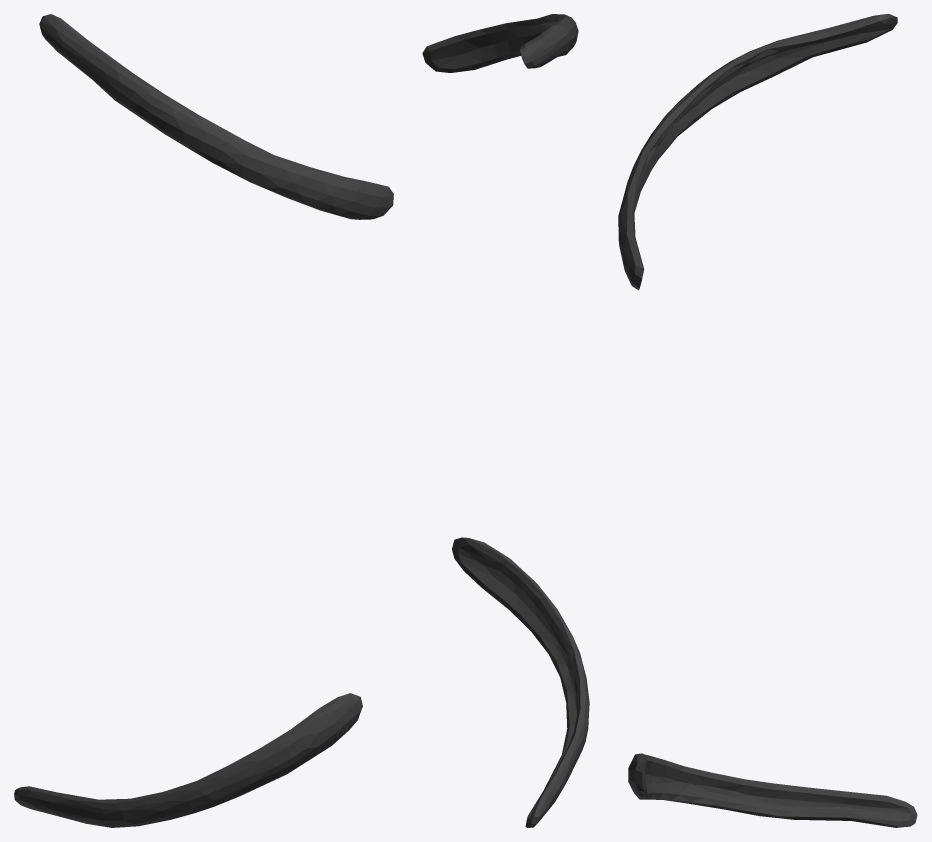
The model's file is Pelvis_iliac_crest.glb.
3 renders of one model, left to right at view 1: azimuth 30°, elevation 25°; view 2: azimuth 150°, elevation 25°; view 3: azimuth 270°, elevation 25°, orthographic. The views are drawn at different scales.
Parts seen in each view (by area): view 1: Pelvis_iliac_crest; view 2: Pelvis_iliac_crest; view 3: Pelvis_iliac_crest.
Boxes of the visible parts, bbox=[...] form: Pelvis_iliac_crest: bbox=[14, 14, 393, 827]; Pelvis_iliac_crest: bbox=[422, 14, 589, 827]; Pelvis_iliac_crest: bbox=[618, 14, 917, 827].
Bounding box in the file's own units: 1.57 × 4.75 × 1.57.
Materials: 1 (1 with a texture image).
